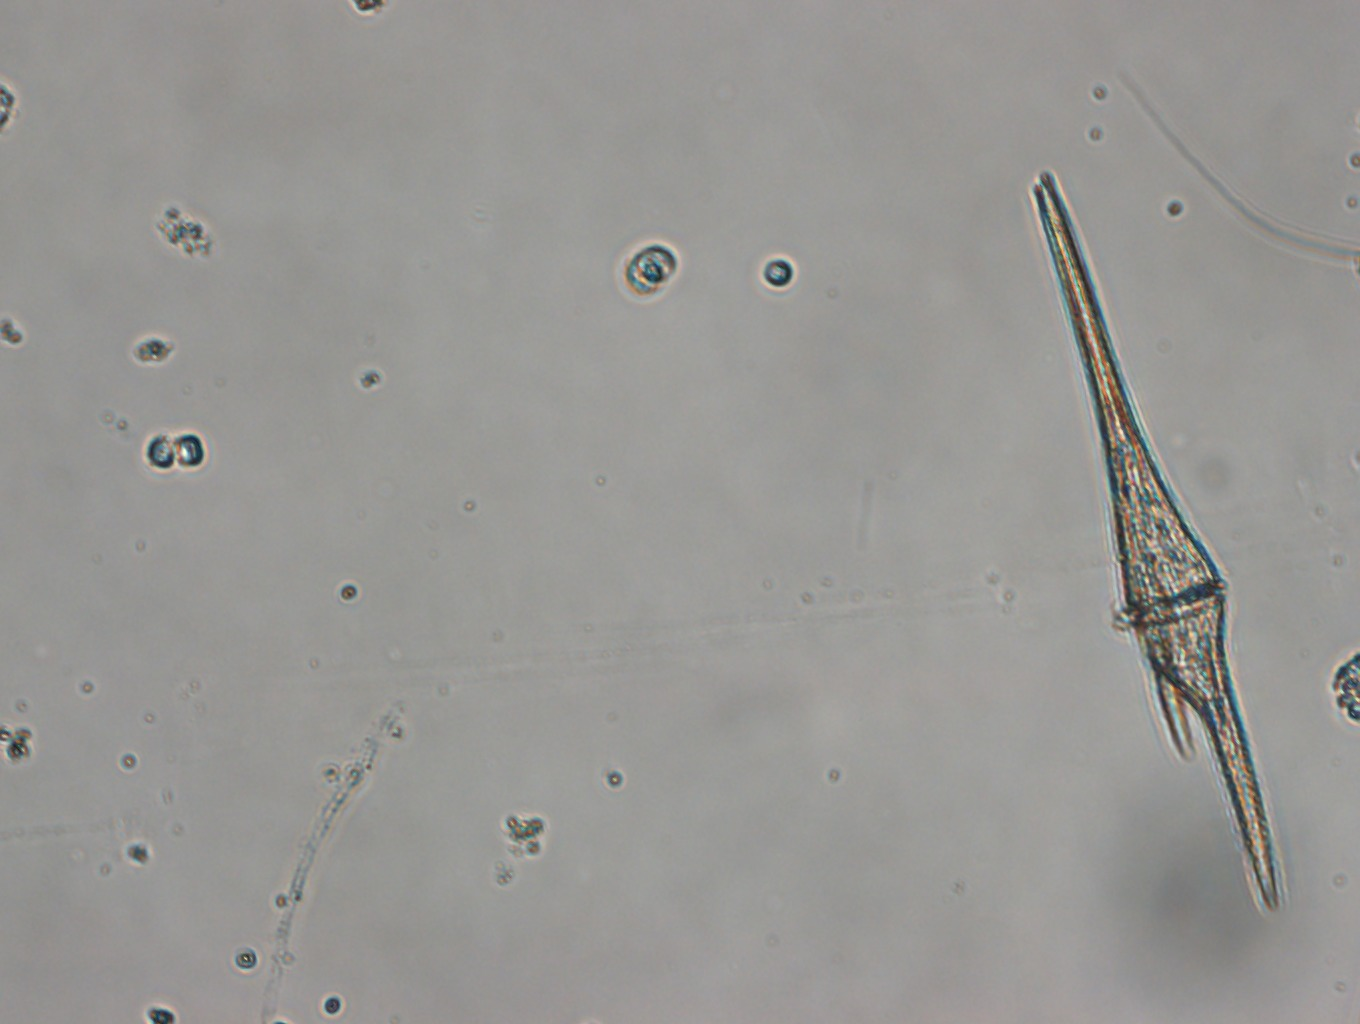ceratium furca: (1027, 165, 1291, 915)
